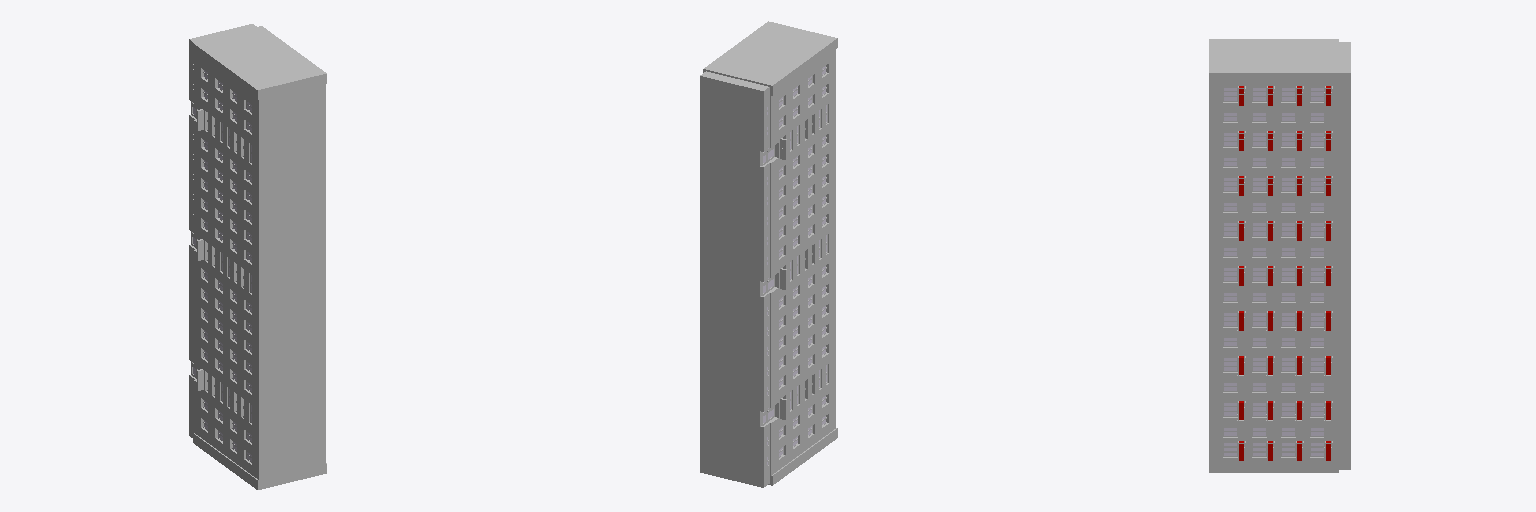
Rendered from Building.obj.
The picture shows the model from 3 angles: view 1: azimuth 30°, elevation 25°; view 2: azimuth 150°, elevation 25°; view 3: azimuth 270°, elevation 25°; orthographic projection.
Parts seen in each view (by area): view 1: Building, Window_2.001, Window_2; view 2: Building, Window_2.001, Window_2; view 3: Building, BalconyWindow.001, Panels, BackWindow.001, BalconyWindow, BackWindow, Railing, Balcony.
Part boxes in pixels (x1,y1,x2,y2): Building: (189, 24, 326, 489); Window_2.001: (204, 140, 251, 391); Window_2: (203, 140, 251, 392); Building: (700, 21, 837, 487); Window_2.001: (779, 136, 825, 386); Window_2: (779, 135, 826, 387); Building: (1209, 39, 1350, 472); BalconyWindow.001: (1224, 88, 1323, 415); Panels: (1239, 86, 1330, 419); BackWindow.001: (1224, 113, 1323, 435); BalconyWindow: (1223, 88, 1331, 416); BackWindow: (1223, 113, 1323, 436); Railing: (1237, 86, 1331, 420); Balcony: (1245, 86, 1332, 419).
Size of the model in its own units: 6.94 by 34.29 by 11.08.